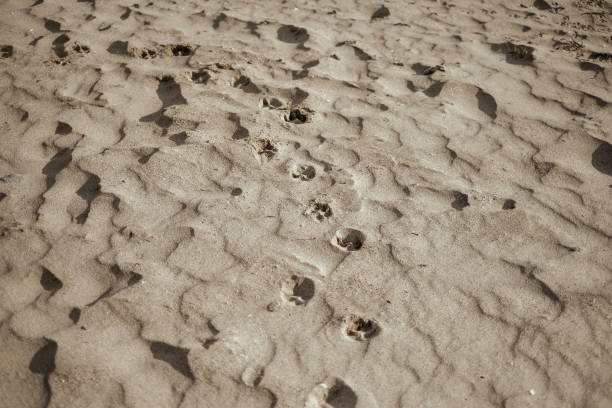animal_foot_print: (305, 377, 357, 407), (280, 275, 314, 304), (491, 42, 533, 65), (342, 314, 379, 340), (332, 228, 364, 251), (304, 200, 332, 221), (252, 138, 278, 160), (277, 25, 308, 43), (284, 107, 312, 123), (291, 165, 316, 181), (451, 191, 468, 210), (190, 69, 210, 83), (0, 45, 12, 57), (502, 199, 515, 209)
